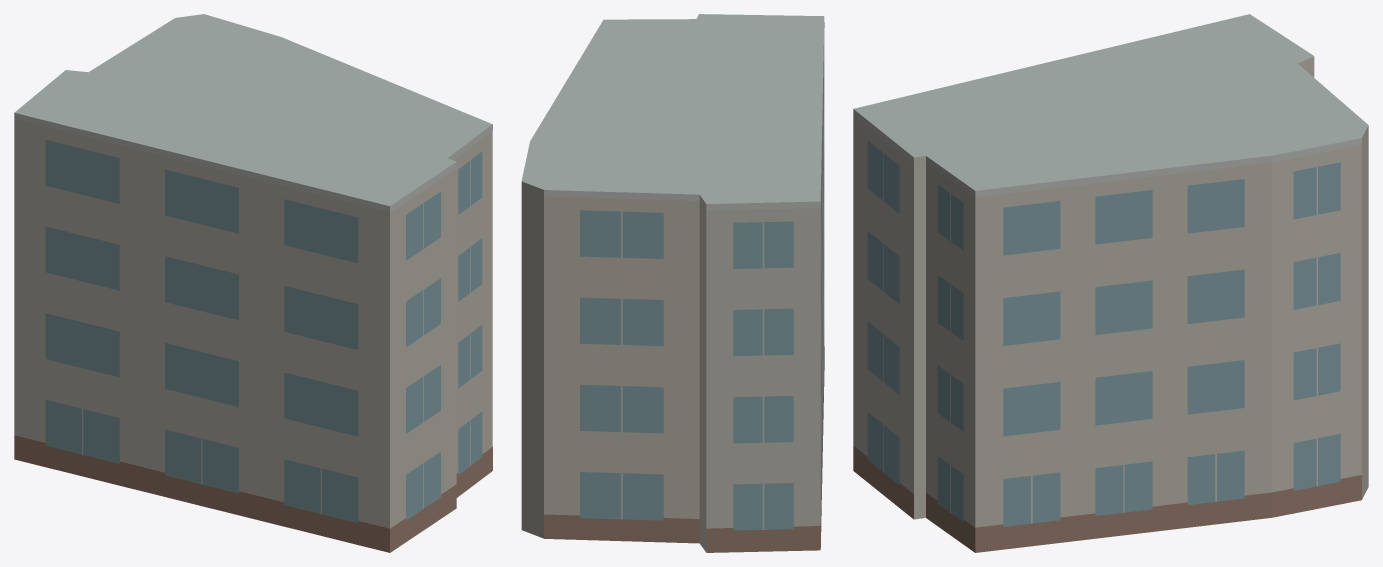
Rendered from survey-upis-32621895.glb.
3 renders of one model, left to right at view 1: azimuth 30°, elevation 25°; view 2: azimuth 150°, elevation 25°; view 3: azimuth 270°, elevation 25°, orthographic. The views are drawn at different scales.
Visible parts, largest first — view 1: survey-upis-32621895.tmp; view 2: survey-upis-32621895.tmp; view 3: survey-upis-32621895.tmp.
Part boxes in pixels (bbox=[...]): survey-upis-32621895.tmp: bbox=[14, 14, 492, 552]; survey-upis-32621895.tmp: bbox=[521, 14, 824, 552]; survey-upis-32621895.tmp: bbox=[853, 14, 1368, 552].
Size of the model in its own units: 13.63 by 13 by 16.78.
